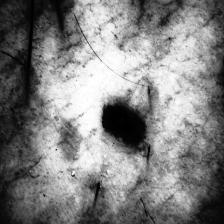Benign Marking or Mole: (100, 103, 150, 147)
